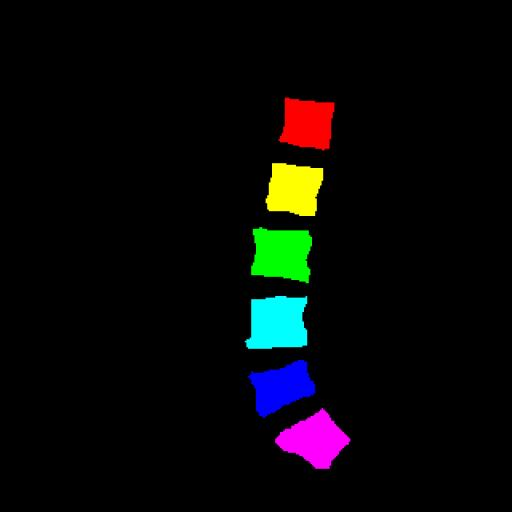L1: (279, 98, 334, 150)
L2: (266, 163, 323, 216)
L3: (251, 227, 312, 283)
L4: (245, 296, 307, 349)
L5: (249, 360, 315, 416)
S1: (275, 409, 350, 469)
